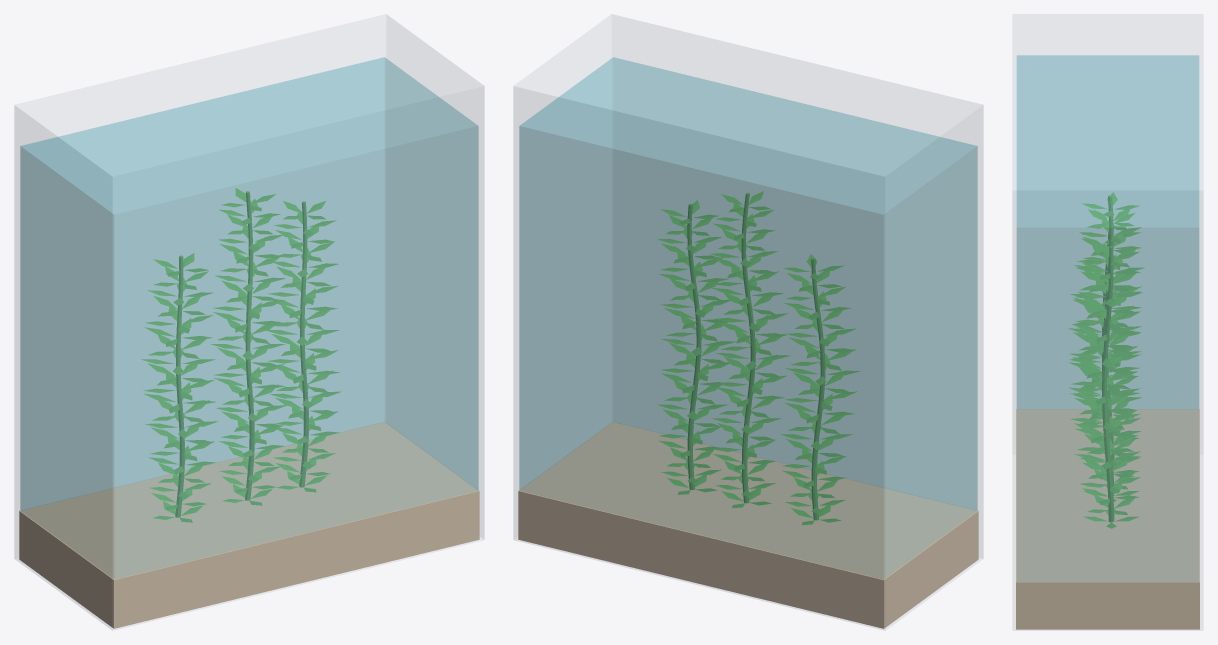
File: plant.glb
The picture shows the model from 3 angles, left to right: view 1: azimuth 30°, elevation 25°; view 2: azimuth 150°, elevation 25°; view 3: azimuth 270°, elevation 25°; orthographic projection. The views are drawn at different scales.
Visible parts, largest first — view 1: Water_Tank, Water_Volume, Sand_Bed, Elodea_Main, Elodea_Right, Elodea_Left; view 2: Water_Tank, Water_Volume, Sand_Bed, Elodea_Main, Elodea_Right, Elodea_Left; view 3: Water_Tank, Water_Volume, Sand_Bed, Elodea_Right, Elodea_Main, Elodea_Left.
Boxes of the visible parts, x1,y1,x2,y2 form: Water_Tank: (14, 14, 484, 630); Water_Volume: (20, 57, 478, 579); Sand_Bed: (19, 422, 479, 628); Elodea_Main: (211, 188, 286, 505); Elodea_Right: (267, 201, 341, 492); Elodea_Left: (141, 253, 217, 522); Water_Tank: (513, 14, 983, 630); Water_Volume: (519, 57, 977, 579); Sand_Bed: (518, 422, 978, 628); Elodea_Main: (710, 191, 790, 508); Elodea_Right: (657, 200, 736, 494); Elodea_Left: (780, 254, 860, 525); Water_Tank: (1012, 14, 1203, 630); Water_Volume: (1016, 55, 1199, 581); Sand_Bed: (1016, 409, 1199, 629); Elodea_Right: (1069, 243, 1142, 528); Elodea_Main: (1069, 192, 1144, 501); Elodea_Left: (1069, 210, 1141, 462).
Bounding box in the file's own units: 2.4 × 2.8 × 1.1.
